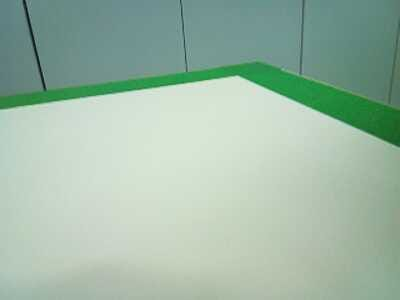linea_cerca: (1, 60, 400, 148)
